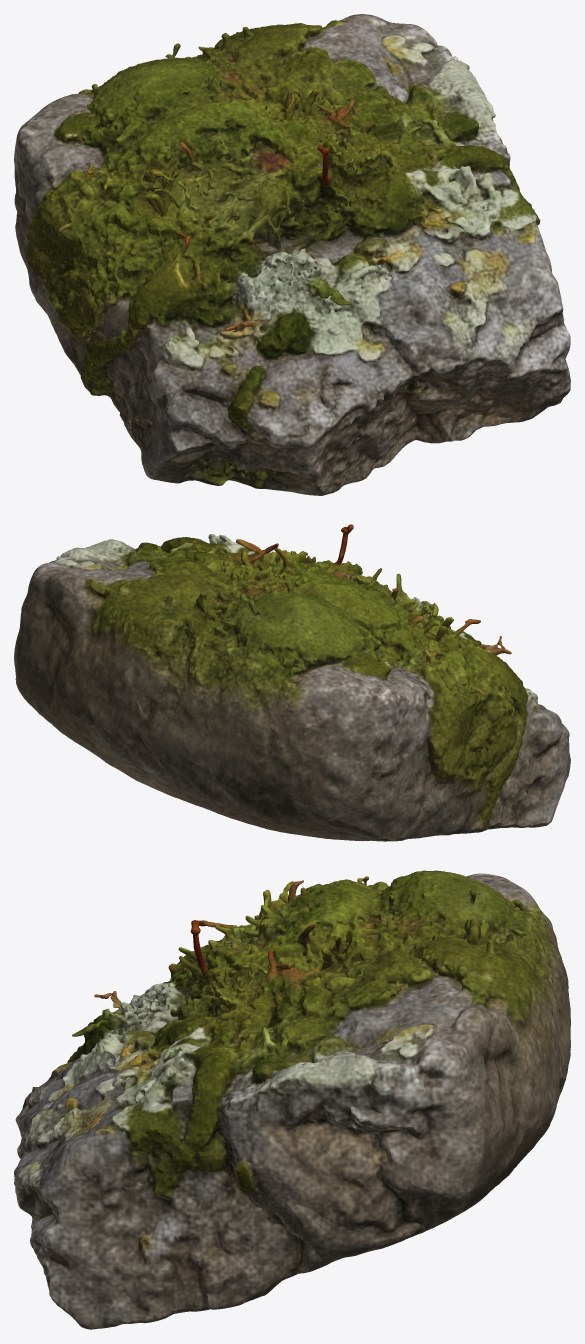
The model's file is mossy-granite-slab-v21.glb.
3 views of the same model, one above another, from view 1: azimuth 30°, elevation 25°; view 2: azimuth 150°, elevation 25°; view 3: azimuth 270°, elevation 25° (orthographic). The views are drawn at different scales.
Visible parts, largest first — view 1: world; view 2: world; view 3: world.
Boxes of the visible parts, box(x1,y1,x2,y2) form: world: box(14, 14, 570, 495); world: box(14, 524, 570, 841); world: box(14, 870, 570, 1329).
Bounding box in the file's own units: 0.28 × 0.1941 × 0.2753.
1 material, 1 textured.
